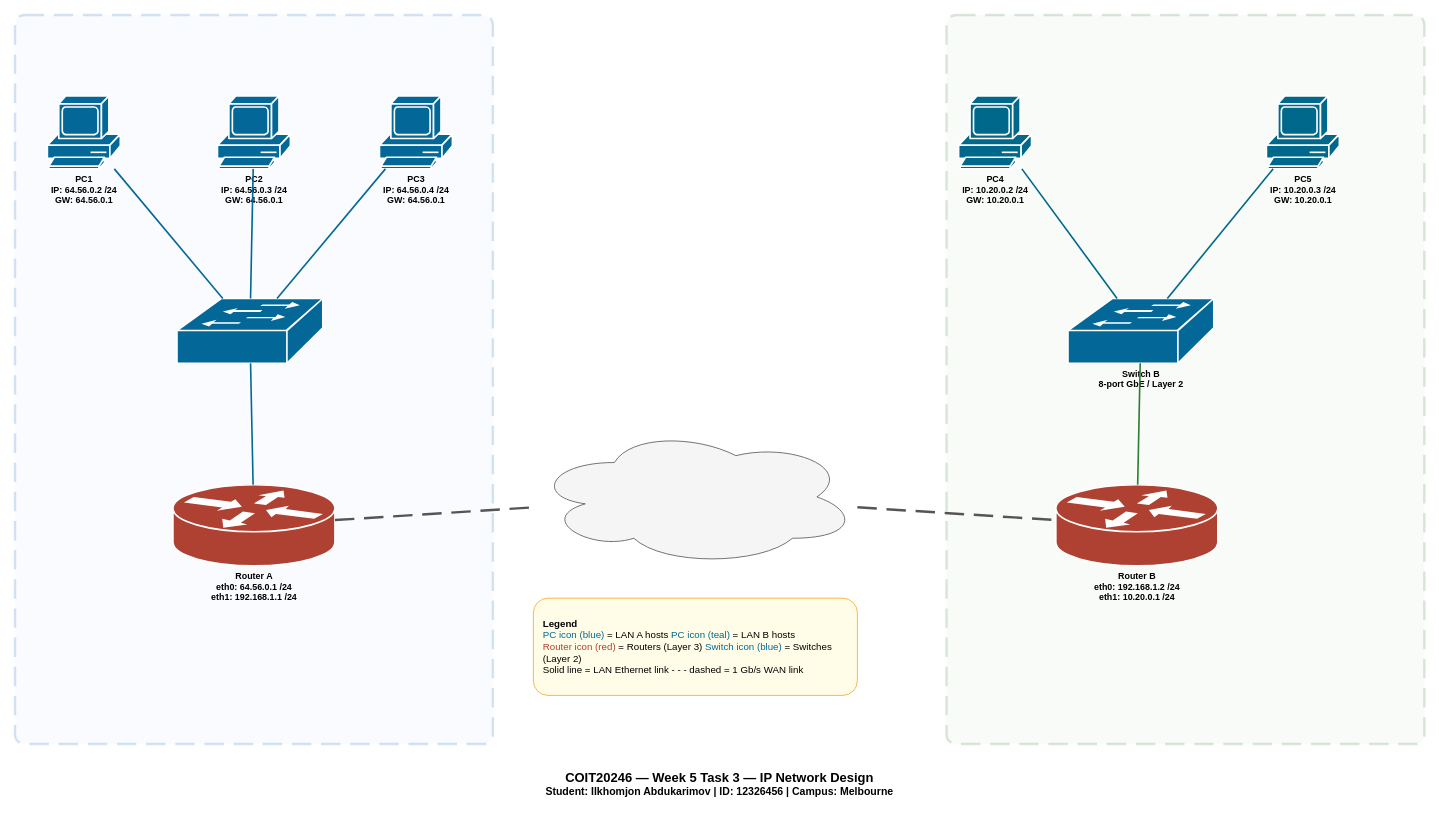
This 1439x823 diagram has some shape labels left out. The box of each missing label's shape, as (x1, y1, x2, y2) in pixels:
LAN A — 64.56.0.0 / 24: (13, 13, 494, 745)
LAN B — 10.20.0.0 / 24: (945, 13, 1425, 745)
Switch A 8-port GbE / Layer 2: (176, 297, 323, 364)
WAN 192.168.1.0 / 24 1 Gb/s Ethernet point-to-point: (533, 427, 857, 566)
